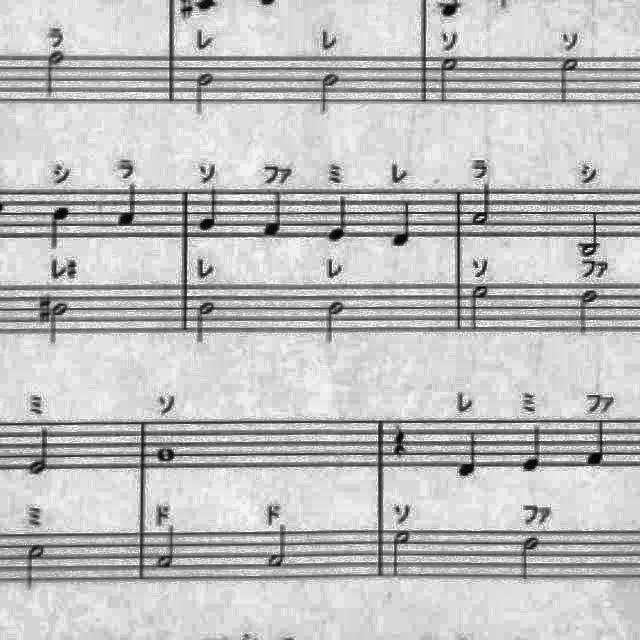Diez: (35, 290, 53, 330)
Full-note: (151, 442, 181, 466)
Half-note: (263, 524, 297, 576), (25, 422, 55, 480), (385, 526, 415, 582), (554, 52, 584, 108), (152, 525, 184, 577), (21, 539, 51, 593), (516, 531, 546, 585), (433, 52, 461, 108), (466, 280, 494, 336), (320, 296, 348, 348), (194, 296, 222, 348), (574, 287, 602, 339), (42, 48, 68, 102), (578, 209, 606, 259), (190, 70, 218, 119), (316, 70, 344, 119), (468, 182, 496, 230), (51, 301, 74, 351)
Quarter-note: (453, 426, 483, 482), (323, 190, 353, 246), (46, 202, 78, 254), (388, 194, 417, 250), (583, 416, 613, 470), (519, 422, 549, 476), (261, 186, 291, 240), (195, 184, 225, 236), (112, 182, 142, 230)
Quarter-rest: (386, 421, 414, 463)
